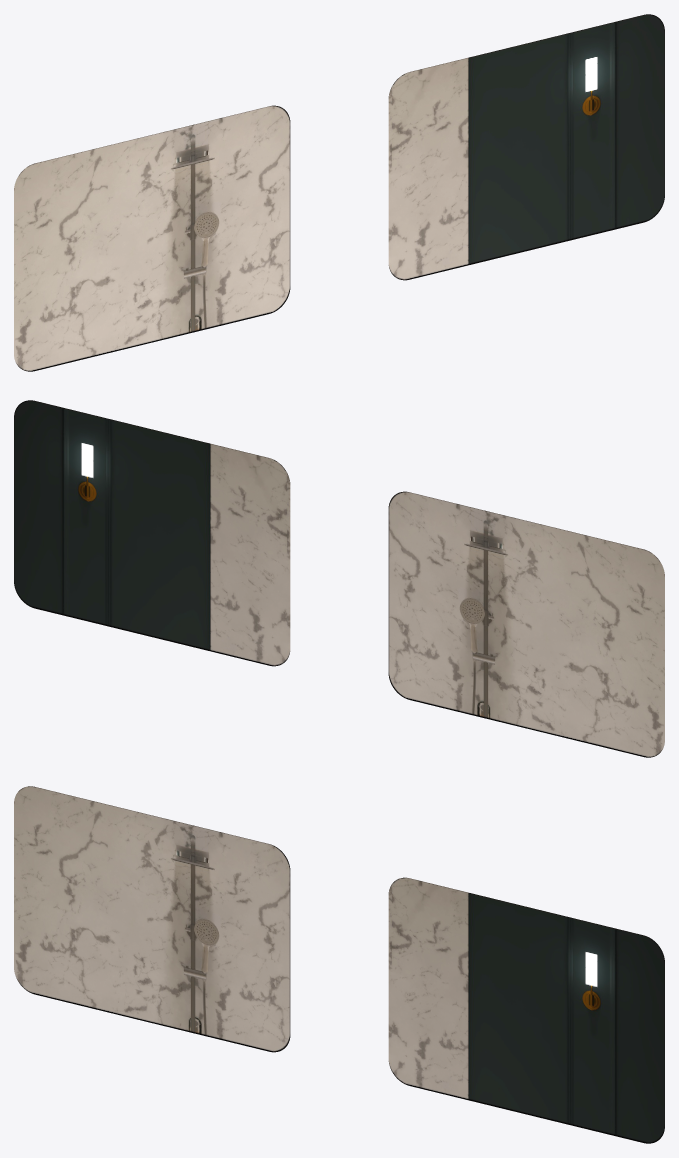
File: bathroom_large_mirror.glb
The picture shows the model from 3 angles, top to bottom: view 1: azimuth 30°, elevation 25°; view 2: azimuth 150°, elevation 25°; view 3: azimuth 330°, elevation 25°; orthographic projection.
Parts seen in each view (by area): view 1: Mirror; view 2: Mirror; view 3: Mirror.
Part boxes in pixels (box(x1,y1,x2,y2)): Mirror: box(14, 14, 664, 371); Mirror: box(14, 400, 664, 757); Mirror: box(14, 786, 664, 1143).
Bounding box in the file's own units: 3.26 × 0.9949 × 2.44e-07.
Materials: 1 (1 with a texture image).
